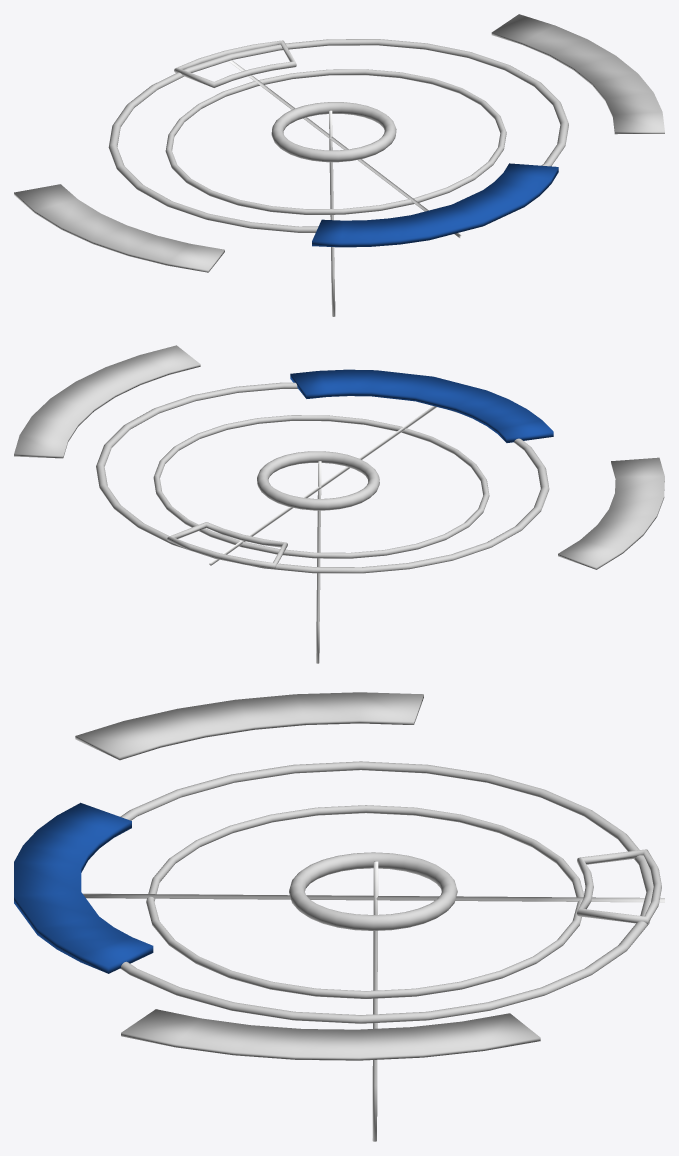
File: fourth.obj
3 views of the same model, one above another, from view 1: azimuth 30°, elevation 25°; view 2: azimuth 150°, elevation 25°; view 3: azimuth 270°, elevation 25° (orthographic). The views are drawn at different scales.
Visible parts, largest first — view 1: Line007, Line001, Line002, Circle163, Circle159, Circle162, Line004, Cylinder006, Cylinder001; view 2: Line007, Line001, Line002, Circle163, Circle159, Circle162, Line004, Cylinder006, Cylinder001; view 3: Line001, Line007, Line002, Circle163, Circle159, Circle162, Cylinder006, Line004, Cylinder001.
Boxes of the visible parts, x1,y1,x2,y2 form: Line007: (312,163,558,247); Line001: (491,14,664,134); Line002: (14,184,224,272); Circle163: (108,39,568,232); Circle159: (165,69,506,214); Circle162: (271,102,396,162); Line004: (174,40,296,87); Cylinder006: (228,60,461,238); Cylinder001: (329,110,335,316); Line007: (290,369,553,442); Line001: (14,345,200,458); Line002: (558,457,664,569); Circle163: (96,382,549,573); Circle159: (153,415,489,558); Circle162: (257,451,379,510); Line004: (167,522,287,568); Cylinder006: (209,406,436,565); Cylinder001: (316,461,321,663); Line001: (121,1009,540,1060); Line007: (14,802,153,973); Line002: (75,692,423,760); Circle163: (120,761,653,1023); Circle159: (146,805,583,998); Circle162: (289,852,457,930); Cylinder006: (83,893,664,902); Line004: (577,849,661,924); Cylinder001: (372,861,378,1141).
Bounding box in the file's own units: 1184 × 400 × 851.
